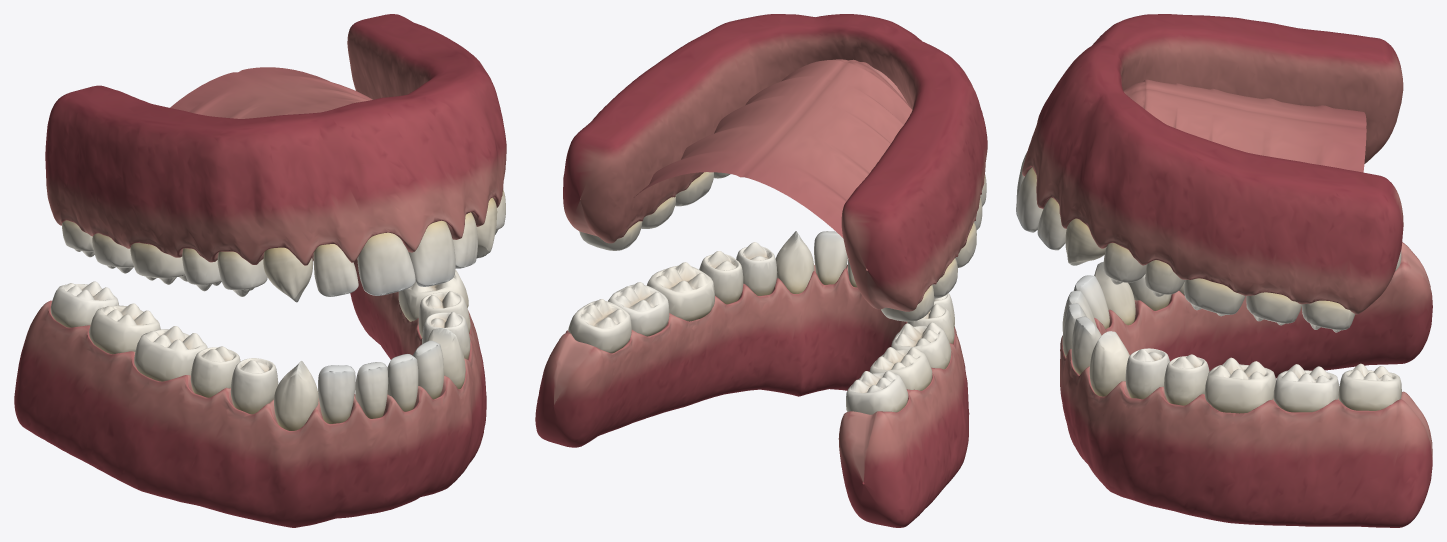
Rendered from dentition.glb.
The picture shows the model from 3 angles, left to right: view 1: azimuth 30°, elevation 25°; view 2: azimuth 150°, elevation 25°; view 3: azimuth 270°, elevation 25°; orthographic projection. The views are drawn at different scales.
Visible parts, largest first — view 1: maxillary_gingiva, mandibular_gingiva, hard_palate, tooth_11_upper_right_central_incisor_crown, tooth_46_lower_right_first_molar_crown, tooth_47_lower_right_second_molar_crown, tooth_21_upper_left_central_incisor_crown, tooth_43_lower_right_canine_crown, tooth_48_lower_right_third_molar_crown, tooth_44_lower_right_first_premolar_crown, tooth_42_lower_right_lateral_incisor_crown, tooth_45_lower_right_second_premolar_crown (+16 smaller); view 2: maxillary_gingiva, mandibular_gingiva, hard_palate, tooth_36_lower_left_first_molar_crown, tooth_38_lower_left_third_molar_crown, tooth_48_lower_right_third_molar_crown, tooth_37_lower_left_second_molar_crown, tooth_47_lower_right_second_molar_crown, tooth_46_lower_right_first_molar_crown, tooth_33_lower_left_canine_crown, tooth_34_lower_left_first_premolar_crown, tooth_35_lower_left_second_premolar_crown (+7 smaller); view 3: maxillary_gingiva, mandibular_gingiva, hard_palate, tooth_36_lower_left_first_molar_crown, tooth_37_lower_left_second_molar_crown, tooth_38_lower_left_third_molar_crown, tooth_33_lower_left_canine_crown, tooth_35_lower_left_second_premolar_crown, tooth_34_lower_left_first_premolar_crown, tooth_26_upper_left_first_molar_crown, tooth_27_upper_left_second_molar_crown, tooth_43_lower_right_canine_crown (+10 smaller).
Boxes of the visible parts, bbox=[...] form: maxillary_gingiva: bbox=[45, 14, 506, 265]; mandibular_gingiva: bbox=[14, 258, 486, 527]; hard_palate: bbox=[170, 67, 372, 118]; tooth_11_upper_right_central_incisor_crown: bbox=[357, 232, 415, 295]; tooth_46_lower_right_first_molar_crown: bbox=[134, 326, 207, 381]; tooth_47_lower_right_second_molar_crown: bbox=[89, 303, 160, 354]; tooth_21_upper_left_central_incisor_crown: bbox=[408, 220, 455, 286]; tooth_43_lower_right_canine_crown: bbox=[274, 361, 318, 430]; tooth_48_lower_right_third_molar_crown: bbox=[50, 281, 119, 327]; tooth_44_lower_right_first_premolar_crown: bbox=[230, 358, 278, 414]; tooth_42_lower_right_lateral_incisor_crown: bbox=[318, 365, 355, 423]; tooth_45_lower_right_second_premolar_crown: bbox=[190, 346, 240, 397]; maxillary_gingiva: bbox=[563, 14, 987, 311]; mandibular_gingiva: bbox=[535, 264, 969, 527]; hard_palate: bbox=[634, 59, 912, 237]; tooth_36_lower_left_first_molar_crown: bbox=[647, 262, 714, 321]; tooth_38_lower_left_third_molar_crown: bbox=[568, 299, 631, 353]; tooth_48_lower_right_third_molar_crown: bbox=[846, 371, 908, 414]; tooth_37_lower_left_second_molar_crown: bbox=[608, 282, 669, 336]; tooth_47_lower_right_second_molar_crown: bbox=[869, 347, 932, 390]; tooth_46_lower_right_first_molar_crown: bbox=[891, 322, 951, 369]; tooth_33_lower_left_canine_crown: bbox=[775, 231, 814, 293]; tooth_34_lower_left_first_premolar_crown: bbox=[736, 242, 777, 295]; tooth_35_lower_left_second_premolar_crown: bbox=[699, 251, 743, 304]; maxillary_gingiva: bbox=[1022, 14, 1403, 314]; mandibular_gingiva: bbox=[1060, 242, 1432, 527]; hard_palate: bbox=[1123, 79, 1366, 172]; tooth_36_lower_left_first_molar_crown: bbox=[1204, 357, 1276, 413]; tooth_37_lower_left_second_molar_crown: bbox=[1273, 364, 1339, 412]; tooth_38_lower_left_third_molar_crown: bbox=[1338, 363, 1401, 410]; tooth_33_lower_left_canine_crown: bbox=[1089, 331, 1129, 396]; tooth_35_lower_left_second_premolar_crown: bbox=[1164, 354, 1209, 405]; tooth_34_lower_left_first_premolar_crown: bbox=[1125, 348, 1169, 399]; tooth_26_upper_left_first_molar_crown: bbox=[1184, 278, 1245, 316]; tooth_27_upper_left_second_molar_crown: bbox=[1246, 292, 1302, 325]; tooth_43_lower_right_canine_crown: bbox=[1094, 262, 1135, 325].
Size of the model in its own units: 0.0732 by 0.0714 by 0.0675.
